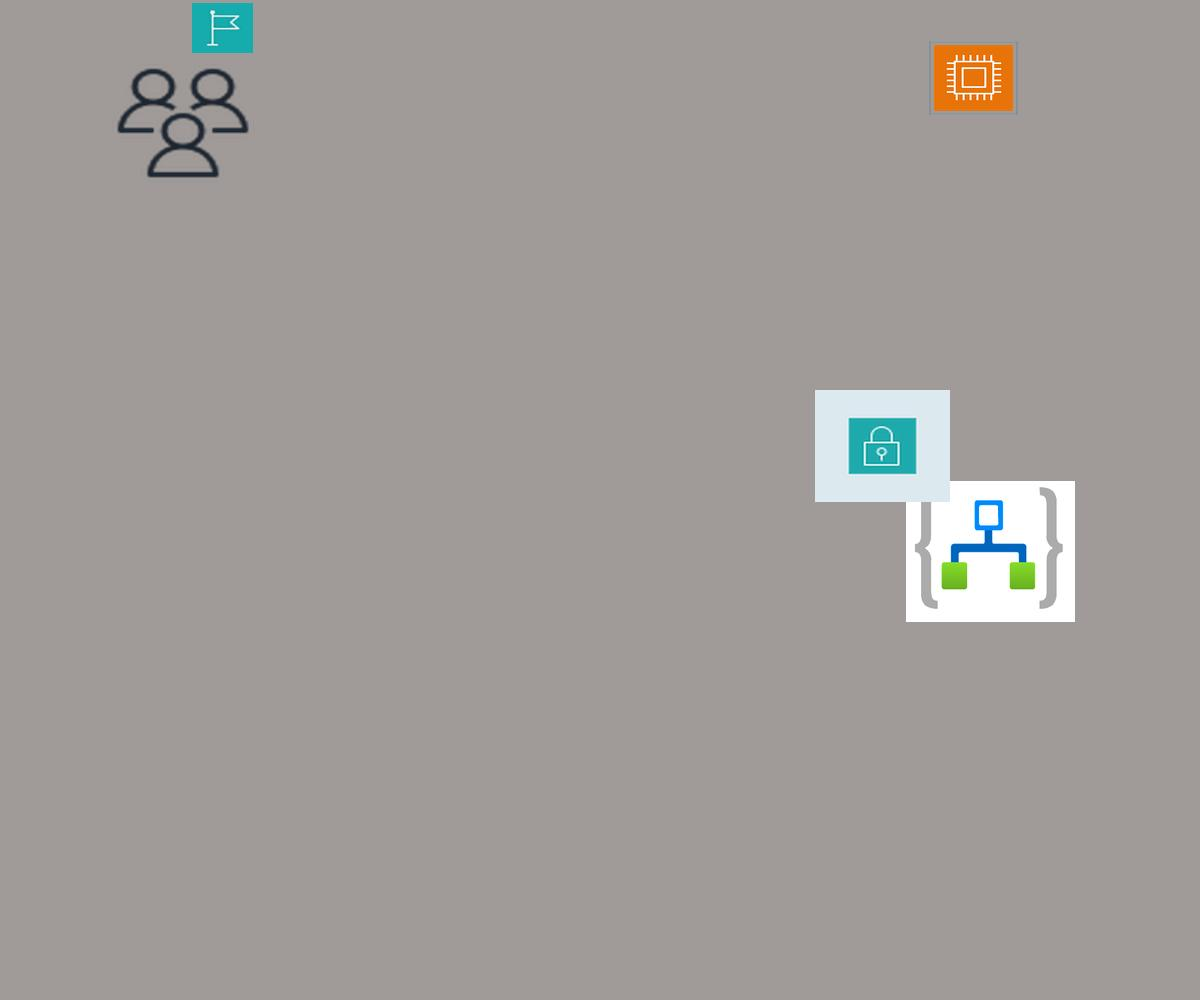AWS-Category_Compute: (929, 41, 1018, 115)
AWS-Private-subnet: (815, 390, 950, 502)
AWS-Region: (192, 3, 253, 53)
AWS-Res_Users: (112, 64, 254, 182)
Azure_integration-204-Logic-Apps: (906, 481, 1075, 622)
